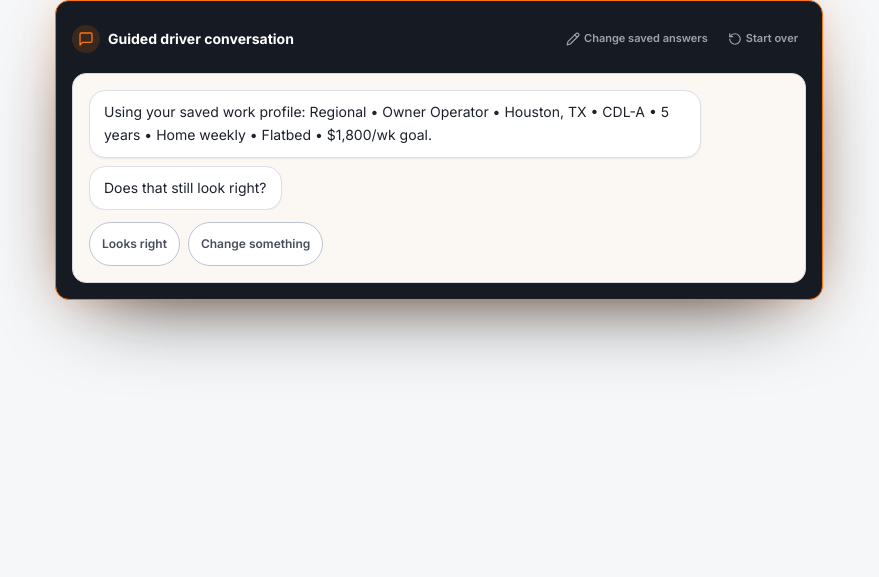
Test: HP-4B profile-aware conversation › Change lets the driver correct a seeded answer, and the new answer wins
The image size is (879, 577).
What coordinates should you click on to do the following:
click the button with test id "home-conversation-confirm-change"
I would click on:
 (256, 244)
Its box is [188,222,323,266].
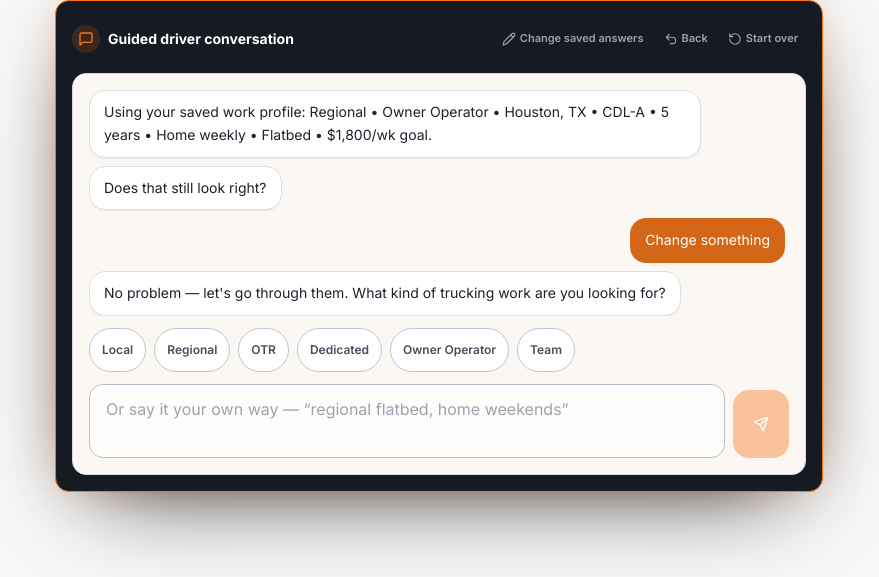
expect the text "What kind of trucking work are you looking for?" is shown: met, box [104,284,666,301]
What coordinates should you click on to do the following:
click the button with test id "home-conversation-chip-local"
I would click on:
 (118, 350)
Its box is [89,328,146,372].
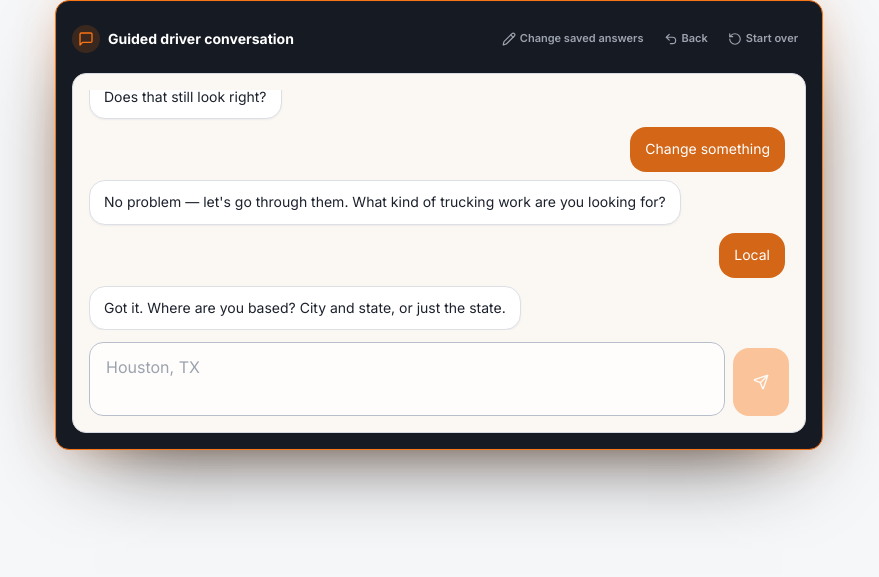
expect the element with test id "home-conversation-transcript" shows "Local": met, box [734,246,770,263]
